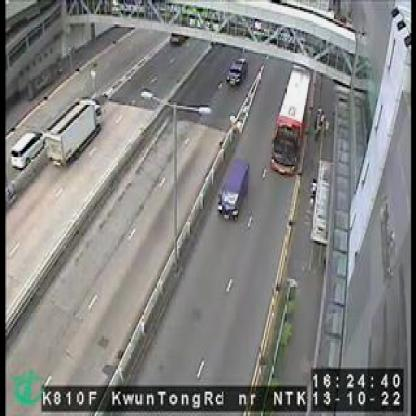Bus: (272, 67, 312, 176)
Car: (216, 158, 250, 220), (9, 128, 43, 170), (228, 57, 248, 88)
Truck: (45, 99, 103, 171)
